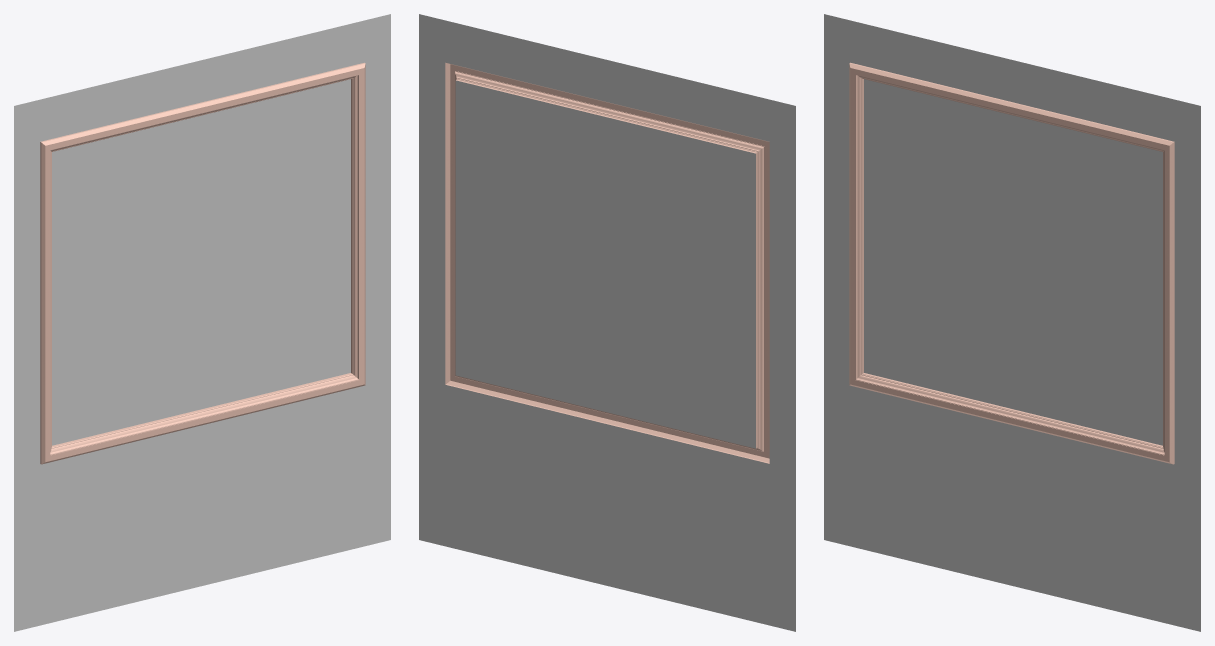
The model's file is Shop_Wall_Indent.fbx.
The picture shows the model from 3 angles, left to right: view 1: azimuth 30°, elevation 25°; view 2: azimuth 150°, elevation 25°; view 3: azimuth 330°, elevation 25°; orthographic projection.
Visible parts, largest first — view 1: Wall_Indent; view 2: Wall_Indent; view 3: Wall_Indent.
Boxes of the visible parts, x1=… form: Wall_Indent: x1=14, y1=14, x2=390, y2=631; Wall_Indent: x1=419, y1=14, x2=795, y2=631; Wall_Indent: x1=824, y1=14, x2=1200, y2=631.
Bounding box in the file's own units: 300 × 400 × 5.85.
